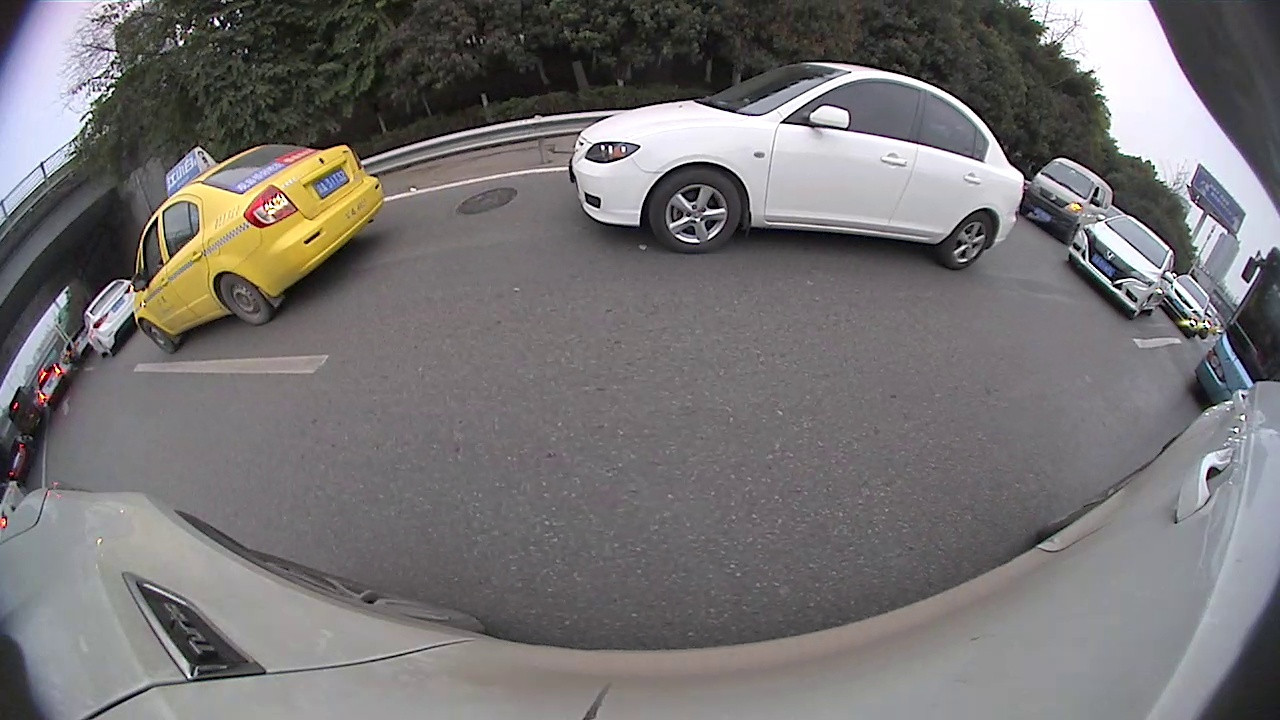bus: (1193, 239, 1279, 411)
car: (565, 61, 1032, 271), (128, 141, 387, 358), (1065, 212, 1180, 317), (1023, 156, 1116, 243), (81, 276, 139, 359), (1160, 267, 1215, 338)
front: (646, 167, 746, 257), (139, 319, 179, 354)
rear: (938, 207, 995, 272), (218, 272, 276, 327)
